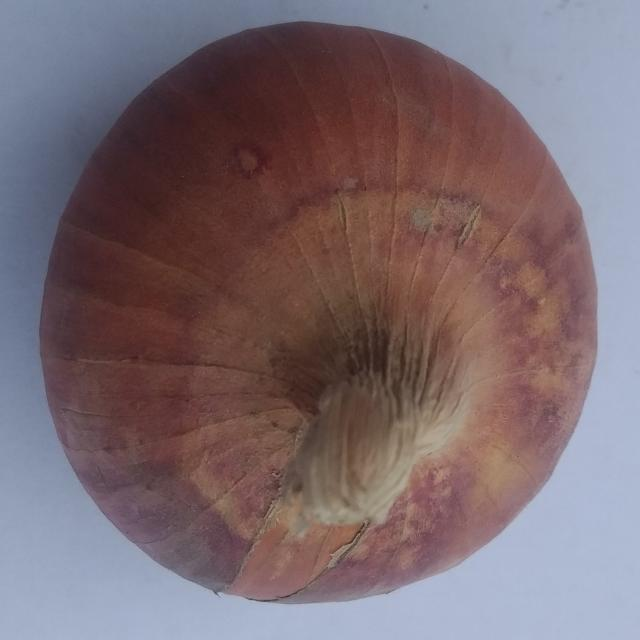onion: (36, 19, 602, 608)
